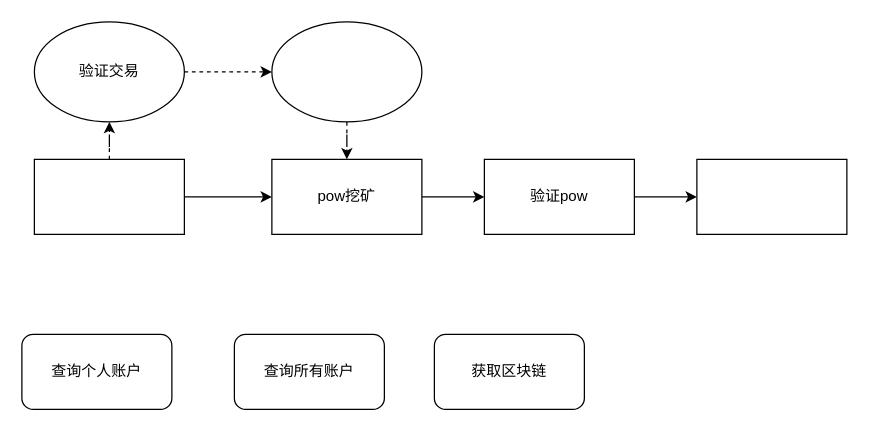
This 869x431 diagram has some shape labels left out. The box of each missing label's shape, as (x1, y1, x2, y2) in pixels:
应用交易: (696, 158, 847, 234)
生成交易: (33, 158, 184, 234)
生成区块: (271, 21, 422, 122)
